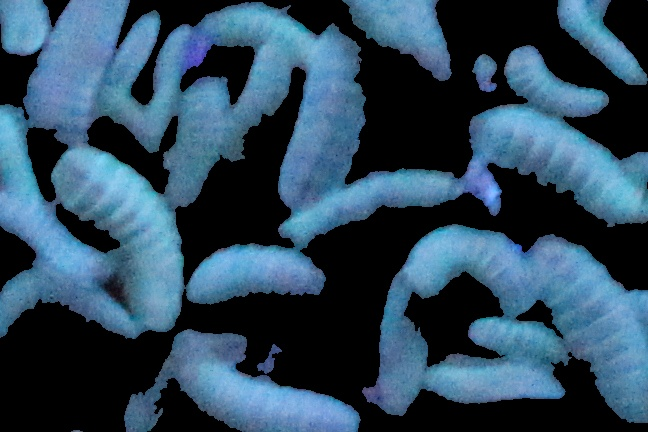larvae: (529, 230, 648, 424), (55, 154, 178, 325), (180, 334, 359, 432), (281, 152, 466, 242), (477, 106, 625, 214), (282, 33, 371, 191), (28, 1, 124, 139), (389, 220, 529, 305), (3, 169, 108, 280), (186, 236, 330, 310), (4, 272, 129, 345), (162, 91, 230, 201), (223, 49, 294, 151), (502, 42, 599, 116), (434, 353, 574, 403), (555, 1, 647, 75), (199, 4, 314, 58), (471, 307, 568, 360), (401, 1, 461, 80), (109, 10, 157, 93), (1, 1, 50, 50), (158, 27, 190, 100)
